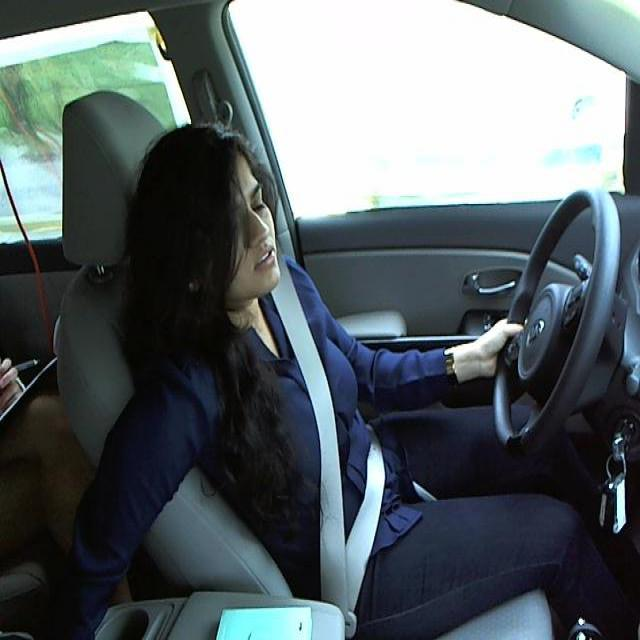seatbelt: (263, 299, 387, 608)
